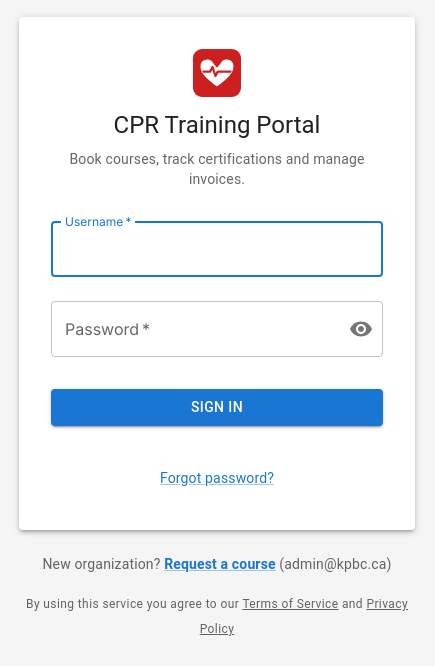
Scenario: Login › shows the server message on a failed login without logging the password
Type "admin" into the field labelled "Username *" at x=217, y=249, box [51, 221, 383, 277]
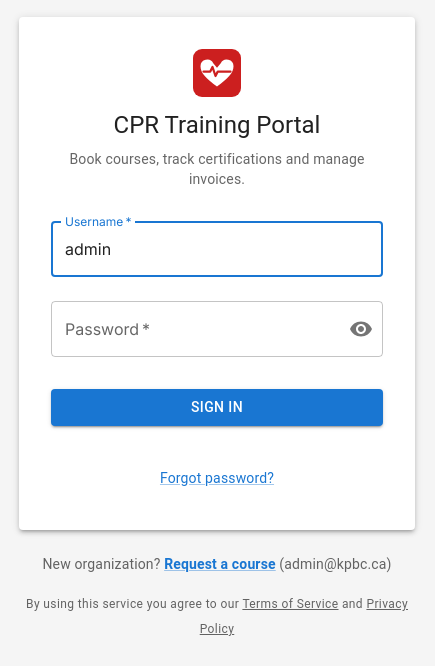
Type "S3cret-pw!" into the password field labelled "Password *" at x=192, y=329, box [51, 301, 333, 357]
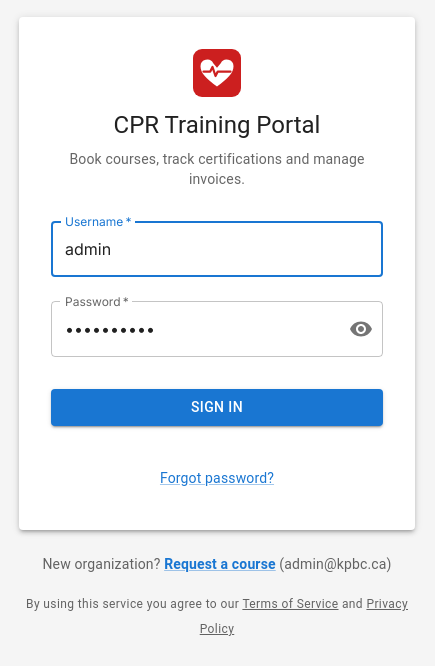
Click the button "Sign In" at x=217, y=408, box [51, 389, 383, 426]
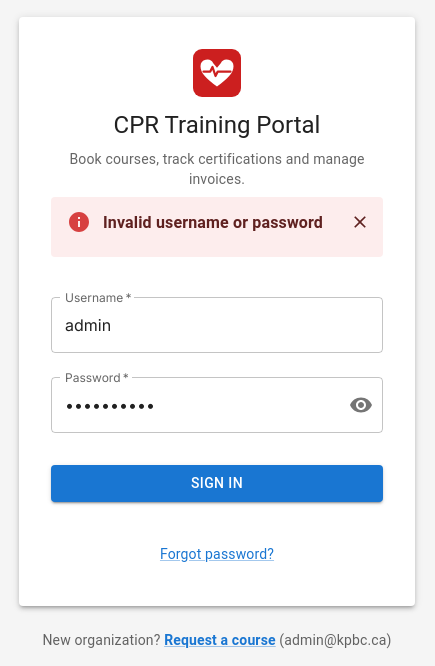
Expected: the text "Invalid username or password" is shown, [103, 211, 329, 235]
